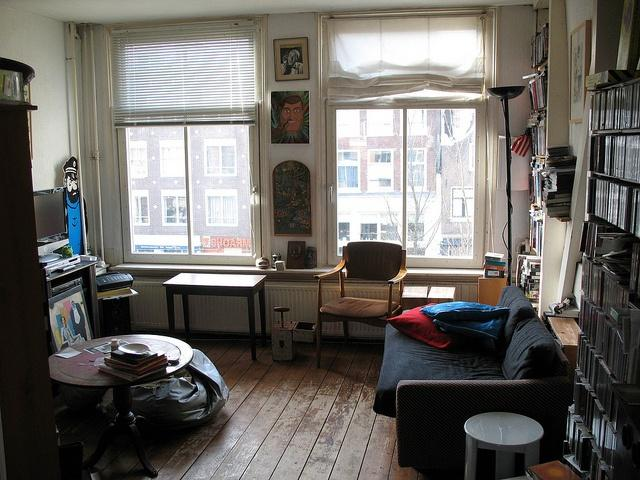AIO PC-Monitor-TV: (32, 185, 68, 247)
Meja: (163, 270, 266, 362)
